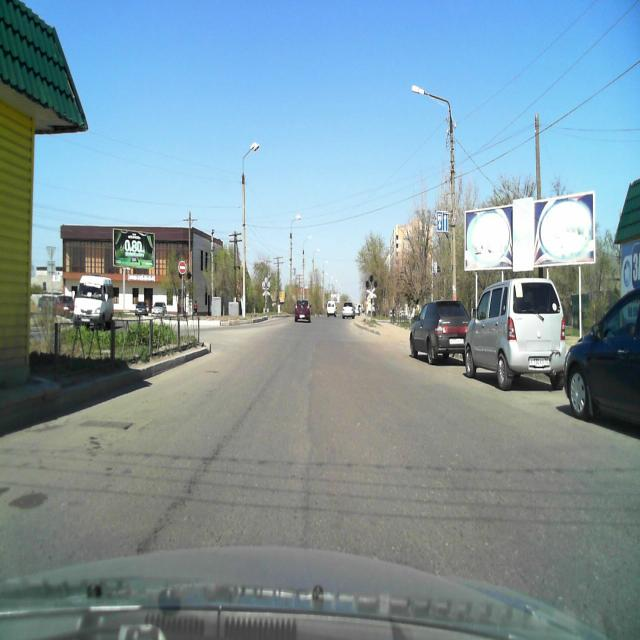road sign: (435, 210, 450, 233)
